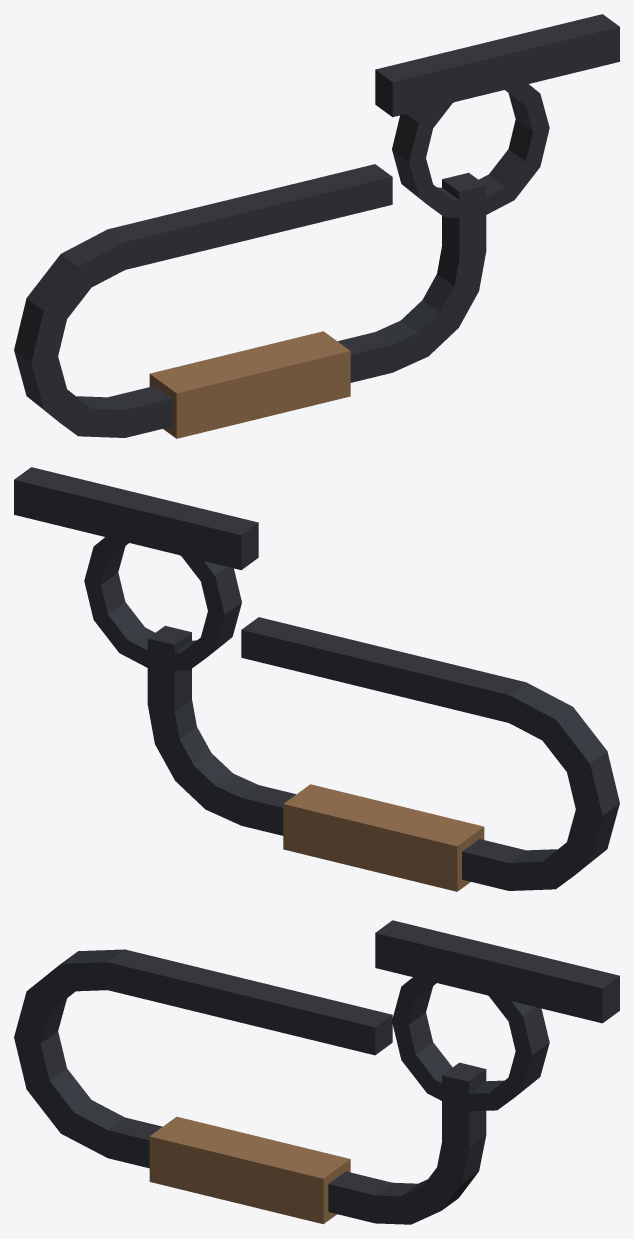
The model's file is winchester_1886_lever_large_loop.fbx.
3 views of the same model, one above another, from view 1: azimuth 30°, elevation 25°; view 2: azimuth 150°, elevation 25°; view 3: azimuth 330°, elevation 25° (orthographic).
Visible parts, largest first — view 1: winchester_1886_lever_large_loop; view 2: winchester_1886_lever_large_loop; view 3: winchester_1886_lever_large_loop.
Boxes of the visible parts, x1=… form: winchester_1886_lever_large_loop: x1=14, y1=14, x2=619, y2=438; winchester_1886_lever_large_loop: x1=14, y1=467, x2=619, y2=891; winchester_1886_lever_large_loop: x1=14, y1=920, x2=619, y2=1224.
Size of the model in its own units: 0.176 by 0.0855 by 0.014.
